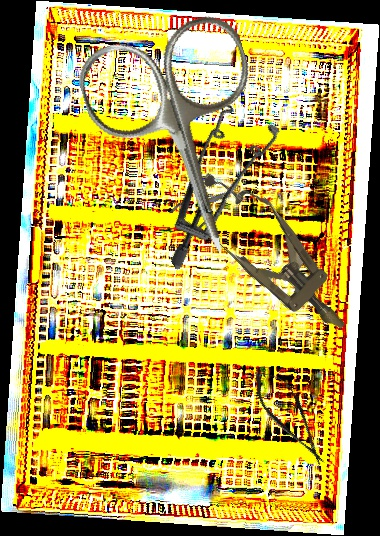Iris Scissors: (71, 8, 298, 277)
Micro Scissor: (242, 357, 338, 475)
Speculum: (168, 157, 370, 355), (114, 84, 315, 271)
